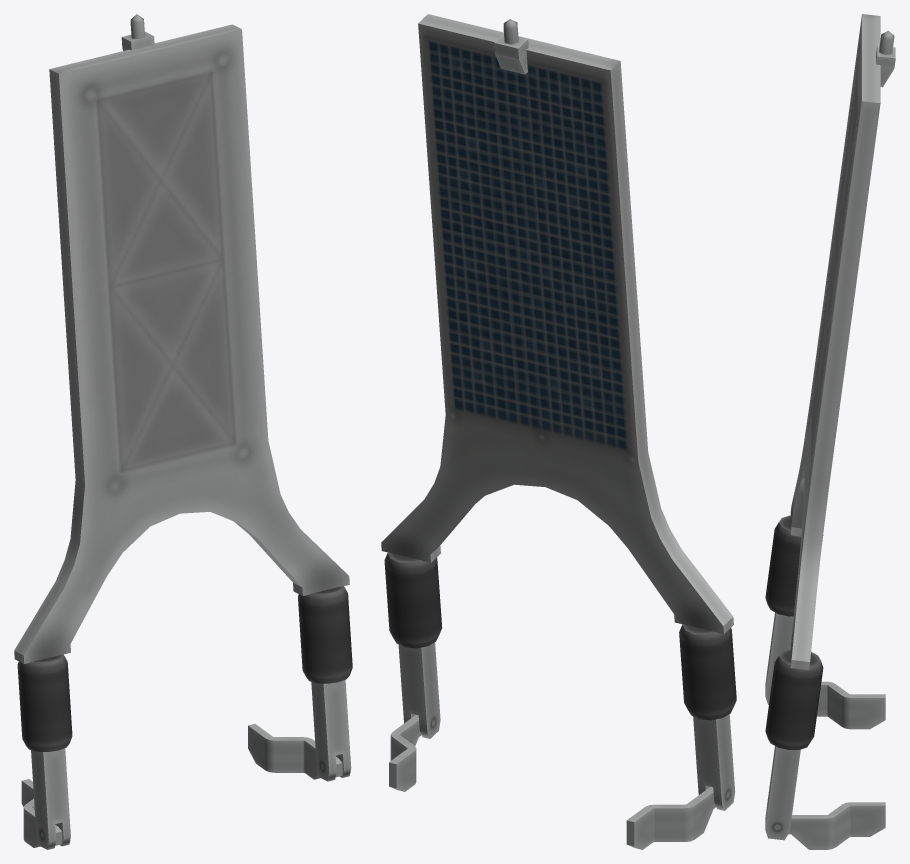
File: Diamant_SolarPanel.dae
The picture shows the model from 3 angles, left to right: view 1: azimuth 30°, elevation 25°; view 2: azimuth 150°, elevation 25°; view 3: azimuth 270°, elevation 25°; orthographic projection. The views are drawn at different scales.
Parts seen in each view (by area): view 1: SolarPanel, BlackArm2, BlackArm3, pCube1, pCube2, PanelMount1, PanelMount2; view 2: SolarPanel, BlackArm3, BlackArm2, PanelMount2, pCube1, pCube2, PanelMount1, TipMount; view 3: SolarPanel, BlackArm2, PanelMount1, BlackArm3, pCube1, PanelMount2, pCube2, TipMount, JustTheTip.
Boxes of the visible parts, bbox=[...] form: SolarPanel: bbox=[14, 24, 349, 663]; BlackArm2: bbox=[298, 586, 352, 683]; BlackArm3: bbox=[17, 654, 72, 751]; pCube1: bbox=[311, 679, 351, 781]; pCube2: bbox=[31, 748, 70, 849]; PanelMount1: bbox=[248, 724, 342, 779]; PanelMount2: bbox=[21, 779, 62, 847]; SolarPanel: bbox=[381, 14, 733, 634]; BlackArm3: bbox=[679, 624, 736, 720]; BlackArm2: bbox=[384, 552, 442, 648]; PanelMount2: bbox=[626, 786, 715, 849]; pCube1: bbox=[398, 642, 440, 738]; pCube2: bbox=[693, 714, 735, 810]; PanelMount1: bbox=[389, 715, 421, 791]; TipMount: bbox=[494, 33, 528, 74]; SolarPanel: bbox=[790, 14, 880, 669]; BlackArm2: bbox=[765, 649, 823, 749]; PanelMount1: bbox=[789, 802, 885, 849]; BlackArm3: bbox=[765, 515, 823, 616]; pCube1: bbox=[765, 746, 800, 840]; PanelMount2: bbox=[817, 681, 885, 729]; pCube2: bbox=[765, 612, 793, 704]; TipMount: bbox=[876, 45, 895, 87]; JustTheTip: bbox=[879, 30, 894, 54].
Bounding box in the file's own units: 0.5813 × 1.31 × 0.2069.
